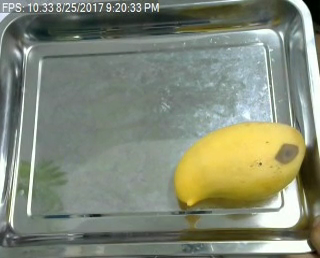Mango: (168, 118, 311, 212)
